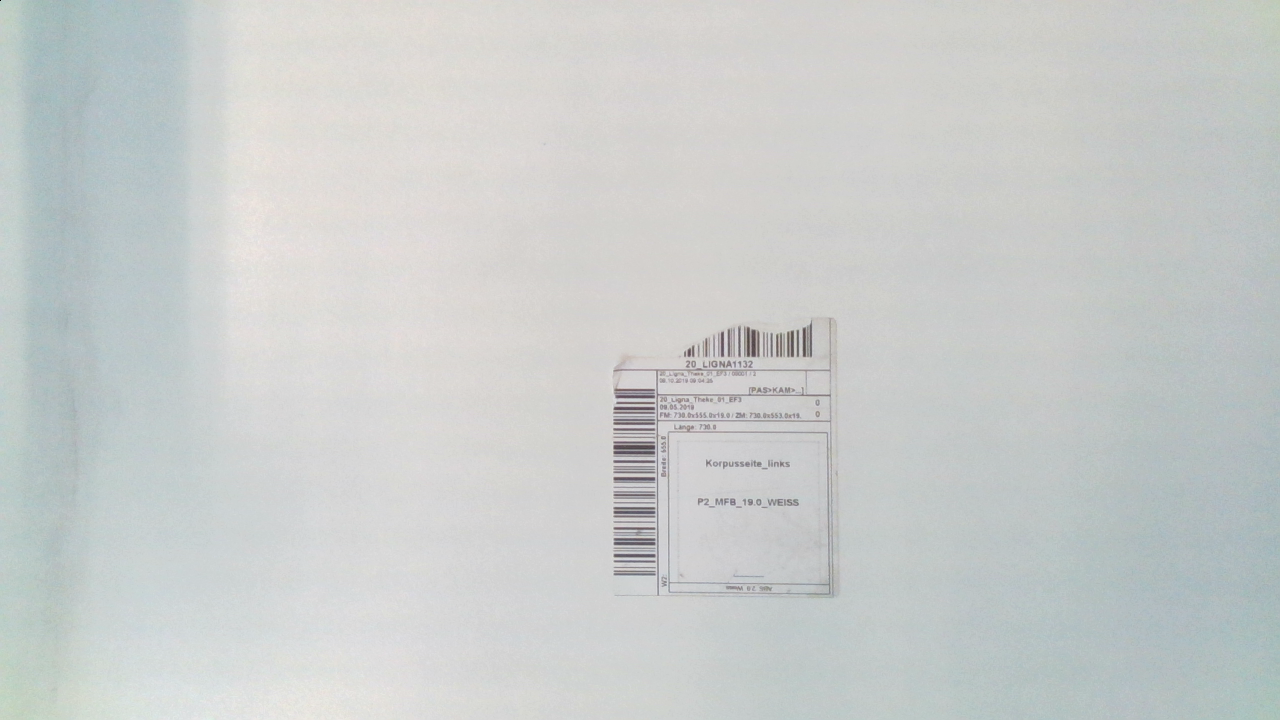barcode: (598, 291, 867, 609)
